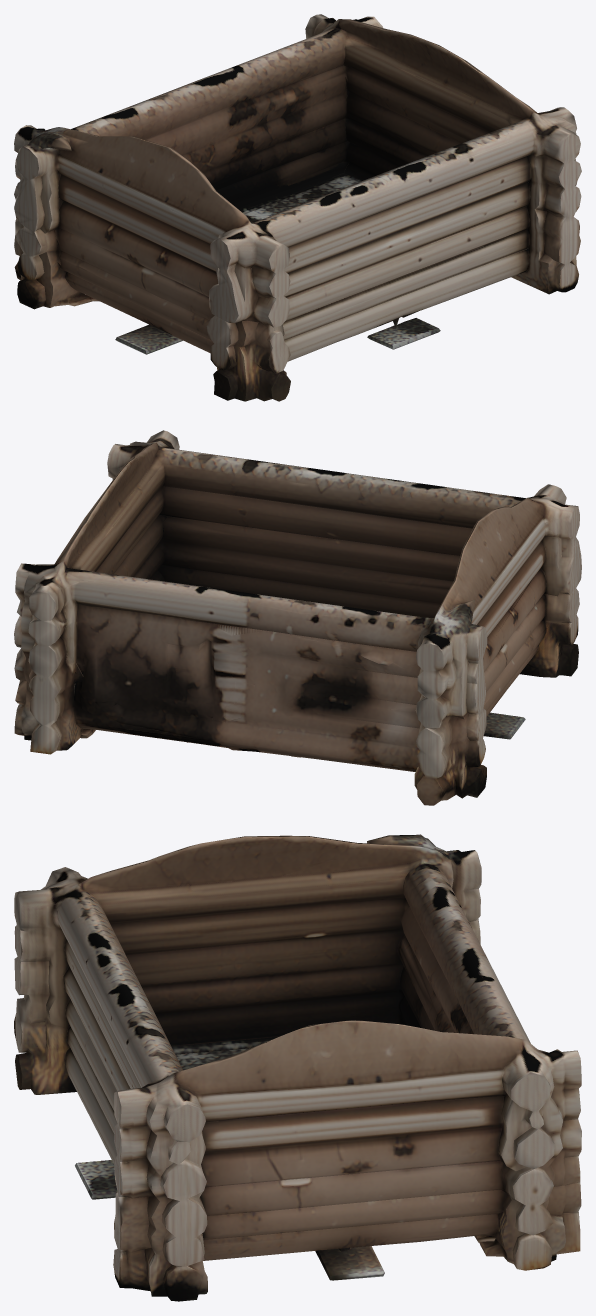
Rendered from walls.obj.
The picture shows the model from 3 angles, top to bottom: view 1: azimuth 30°, elevation 25°; view 2: azimuth 150°, elevation 25°; view 3: azimuth 270°, elevation 25°; orthographic projection. The views are drawn at different scales.
Visible parts, largest first — view 1: Wallsgeom1; view 2: Wallsgeom1; view 3: Wallsgeom1.
Part boxes in pixels (bbox=[...]): Wallsgeom1: bbox=[14, 14, 581, 401]; Wallsgeom1: bbox=[14, 430, 581, 805]; Wallsgeom1: bbox=[14, 834, 581, 1301].
Size of the model in its own units: 15.94 by 6.53 by 14.
1 material, 1 textured.
